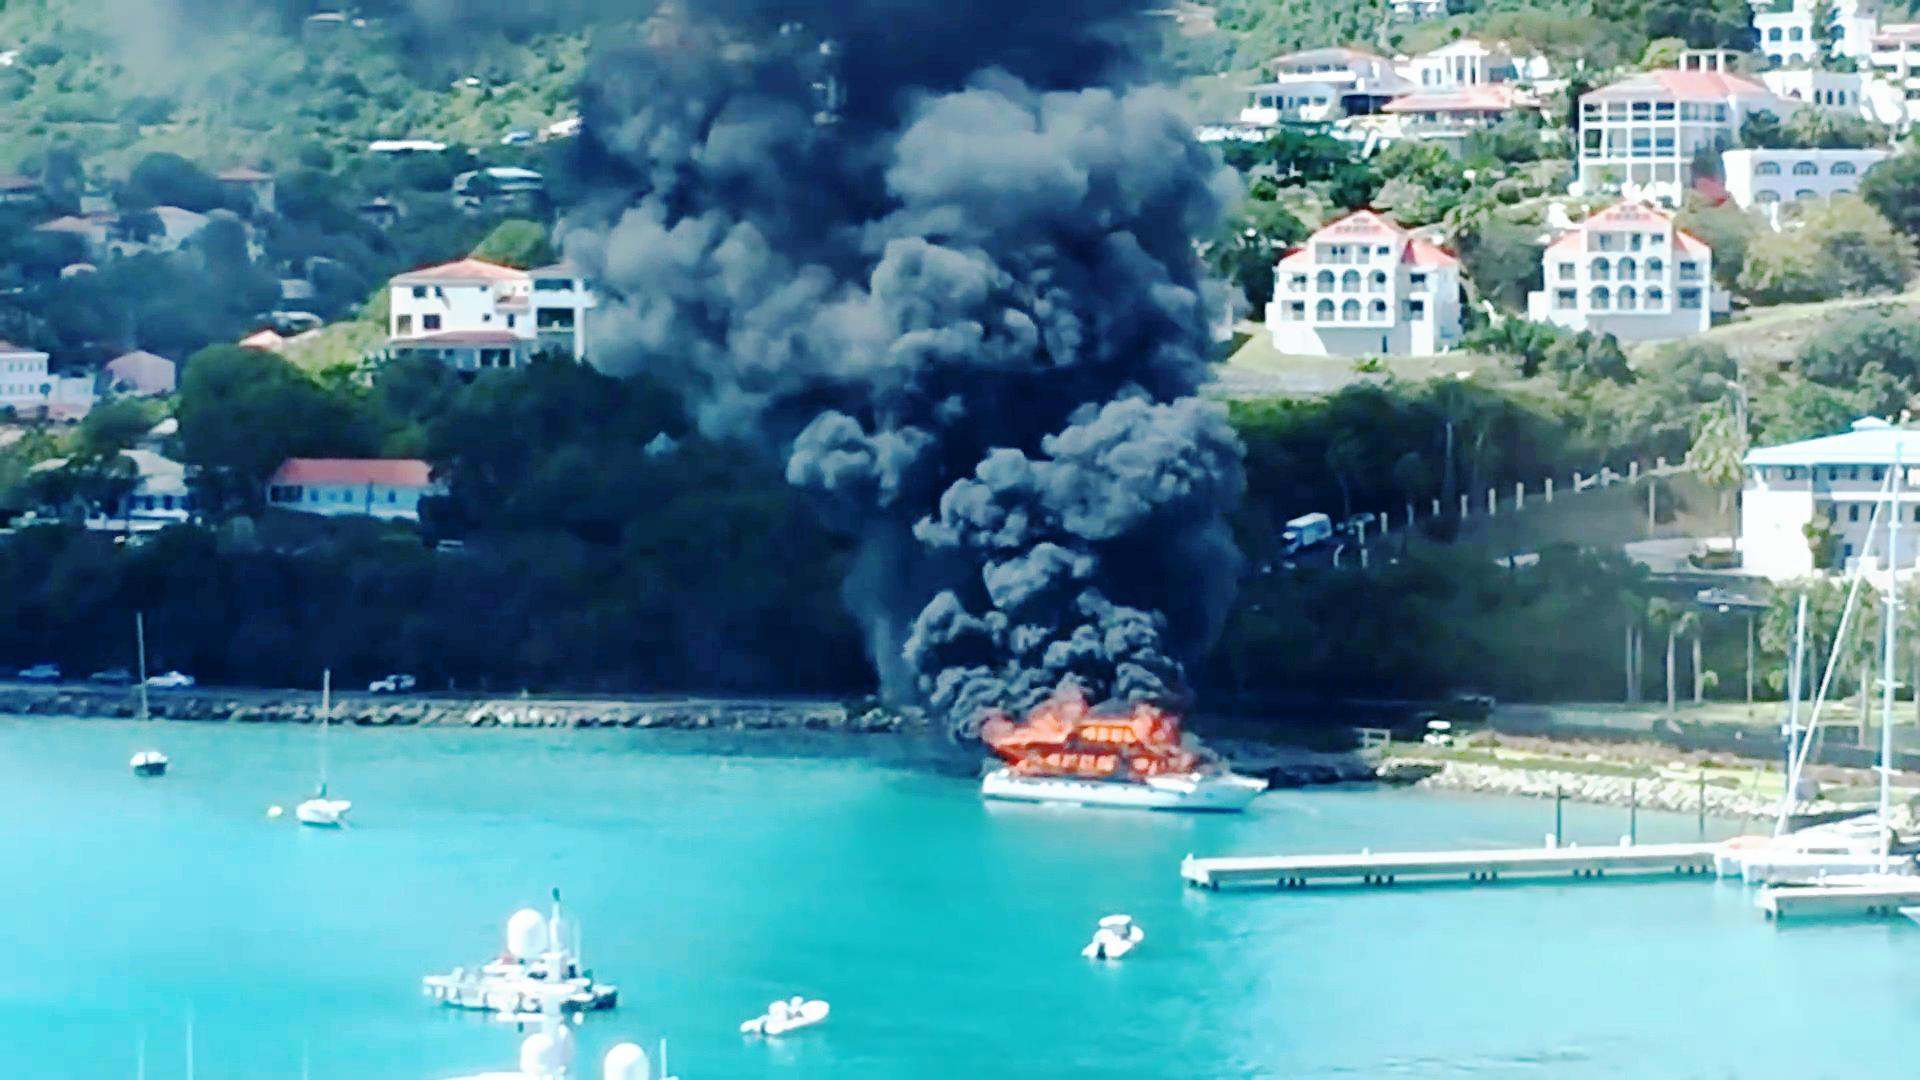smoke: (675, 3, 1199, 443), (857, 335, 1211, 691)
